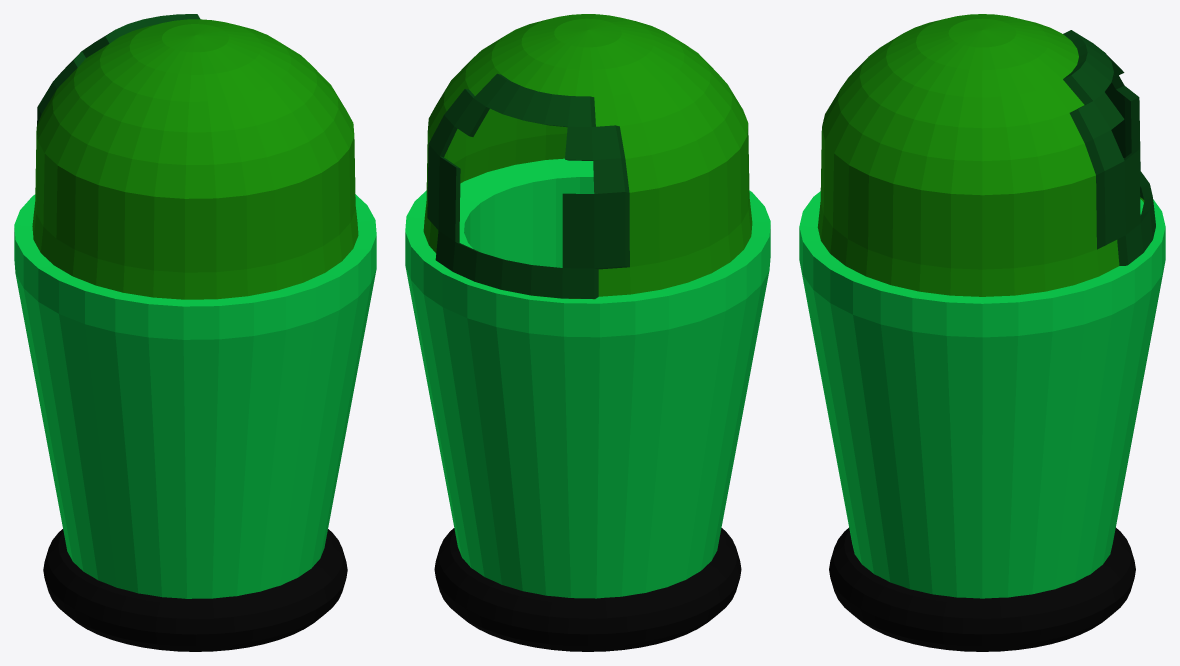
File: Bin.fbx
3 views of the same model, side by side, from view 1: azimuth 30°, elevation 25°; view 2: azimuth 150°, elevation 25°; view 3: azimuth 270°, elevation 25° (orthographic).
Parts seen in each view (by area): view 1: Cylinder; view 2: Cylinder; view 3: Cylinder.
Part boxes in pixels (box(x1,y1,x2,y2)): Cylinder: box(14, 14, 376, 651); Cylinder: box(405, 14, 770, 651); Cylinder: box(799, 14, 1165, 651).
Bounding box in the file's own units: 298 × 510 × 298.
